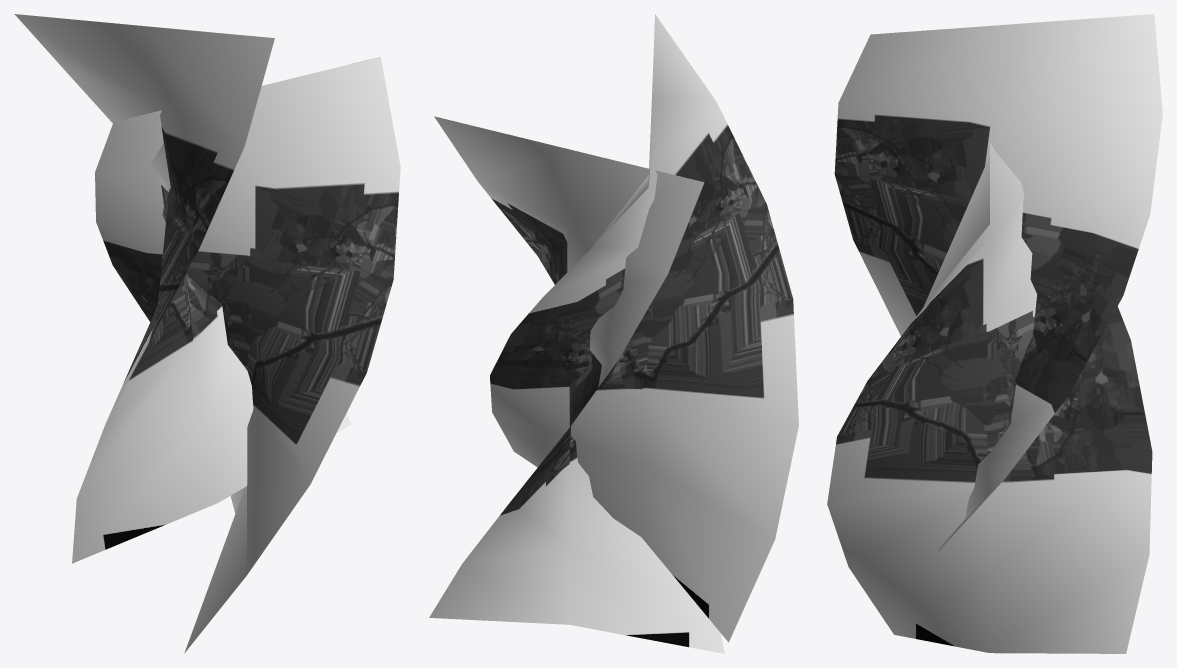
File: Roots2.fbx
The picture shows the model from 3 angles, left to right: view 1: azimuth 30°, elevation 25°; view 2: azimuth 150°, elevation 25°; view 3: azimuth 270°, elevation 25°; orthographic projection. The views are drawn at different scales.
Parts seen in each view (by area): view 1: polySurface16; view 2: polySurface16; view 3: polySurface16.
Part boxes in pixels (box(x1,y1,x2,y2)): polySurface16: box(14, 14, 400, 653); polySurface16: box(429, 14, 798, 653); polySurface16: box(827, 14, 1162, 653).
Size of the model in its own units: 2.09 by 3.77 by 1.79.
